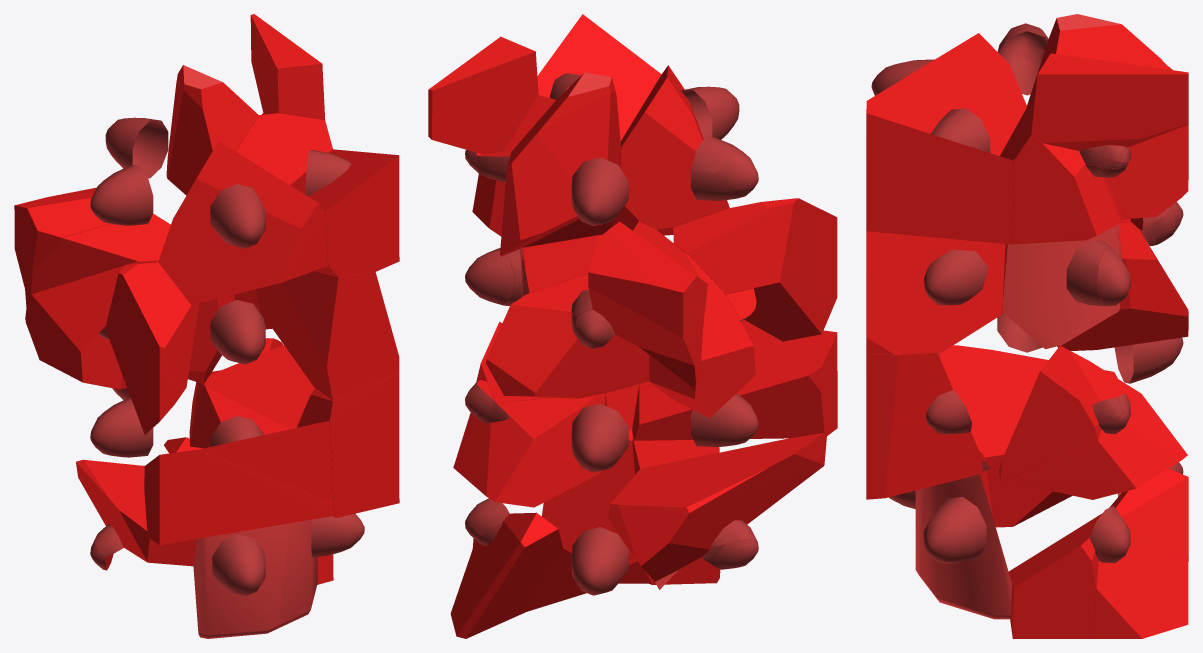
File: Cylinder-cell-fractured35.fbx
3 renders of one model, left to right at view 1: azimuth 30°, elevation 25°; view 2: azimuth 150°, elevation 25°; view 3: azimuth 270°, elevation 25°, orthographic. The views are drawn at different scales.
Visible parts, largest first — view 1: Cylinder-with-thorns_cell.059, Cylinder-with-thorns_cell.061, Cylinder-with-thorns_cell.071, Cylinder-with-thorns_cell.047, Cylinder-with-thorns_cell.062, Cylinder-with-thorns_cell.037, Cylinder-with-thorns_cell.063, Cylinder-with-thorns_cell.088, Cylinder-with-thorns_cell.054, Cylinder-with-thorns_cell.038, Cylinder-with-thorns_cell.077, Cylinder-with-thorns_cell.078 (+17 smaller); view 2: Cylinder-with-thorns_cell.078, Cylinder-with-thorns_cell.047, Cylinder-with-thorns_cell.054, Cylinder-with-thorns_cell.068, Cylinder-with-thorns_cell.071, Cylinder-with-thorns_cell.065, Cylinder-with-thorns_cell.085, Cylinder-with-thorns_cell.059, Cylinder-with-thorns_cell.069, Cylinder-with-thorns_cell.036, Cylinder-with-thorns_cell.063, Cylinder-with-thorns_cell.037 (+23 smaller); view 3: Cylinder-with-thorns_cell.037, Cylinder-with-thorns_cell.069, Cylinder-with-thorns_cell.036, Cylinder-with-thorns_cell.061, Cylinder-with-thorns_cell.062, Cylinder-with-thorns_cell.094, Cylinder-with-thorns_cell.059, Cylinder-with-thorns_cell.078, Cylinder-with-thorns_cell.054, Cylinder-with-thorns_cell.085, Cylinder-with-thorns_cell.096, Cylinder-with-thorns_cell.073 (+18 smaller).
Boxes of the visible parts, box(x1,y1,x2,y2) form: Cylinder-with-thorns_cell.059: box(158, 141, 327, 305); Cylinder-with-thorns_cell.061: box(255, 271, 399, 400); Cylinder-with-thorns_cell.071: box(144, 416, 334, 545); Cylinder-with-thorns_cell.047: box(105, 260, 199, 434); Cylinder-with-thorns_cell.062: box(296, 373, 399, 517); Cylinder-with-thorns_cell.037: box(290, 149, 399, 276); Cylinder-with-thorns_cell.063: box(25, 261, 139, 389); Cylinder-with-thorns_cell.088: box(193, 523, 289, 638); Cylinder-with-thorns_cell.054: box(166, 65, 258, 195); Cylinder-with-thorns_cell.038: box(25, 213, 201, 307); Cylinder-with-thorns_cell.077: box(198, 420, 333, 503); Cylinder-with-thorns_cell.078: box(76, 459, 197, 566); Cylinder-with-thorns_cell.078: box(608, 432, 826, 581); Cylinder-with-thorns_cell.047: box(673, 198, 837, 341); Cylinder-with-thorns_cell.054: box(500, 72, 620, 256); Cylinder-with-thorns_cell.068: box(486, 273, 649, 398); Cylinder-with-thorns_cell.071: box(632, 330, 837, 440); Cylinder-with-thorns_cell.065: box(588, 221, 707, 365); Cylinder-with-thorns_cell.085: box(453, 394, 607, 507); Cylinder-with-thorns_cell.059: box(611, 65, 729, 235); Cylinder-with-thorns_cell.069: box(428, 36, 538, 153); Cylinder-with-thorns_cell.036: box(450, 512, 563, 638); Cylinder-with-thorns_cell.063: box(649, 253, 755, 417); Cylinder-with-thorns_cell.037: box(537, 14, 661, 141); Cylinder-with-thorns_cell.037: box(866, 113, 1013, 244); Cylinder-with-thorns_cell.069: box(1031, 53, 1188, 150); Cylinder-with-thorns_cell.036: box(1094, 468, 1188, 638); Cylinder-with-thorns_cell.061: box(866, 231, 1005, 354); Cylinder-with-thorns_cell.062: box(866, 349, 982, 499); Cylinder-with-thorns_cell.094: box(1000, 102, 1124, 244); Cylinder-with-thorns_cell.059: box(866, 33, 1026, 155); Cylinder-with-thorns_cell.078: box(939, 345, 1117, 527); Cylinder-with-thorns_cell.054: box(1026, 14, 1188, 219); Cylinder-with-thorns_cell.085: box(1010, 350, 1187, 499); Cylinder-with-thorns_cell.096: box(1008, 513, 1102, 638); Cylinder-with-thorns_cell.073: box(1003, 226, 1121, 349).
Size of the model in its own units: 2.95 by 5.97 by 3.09.
